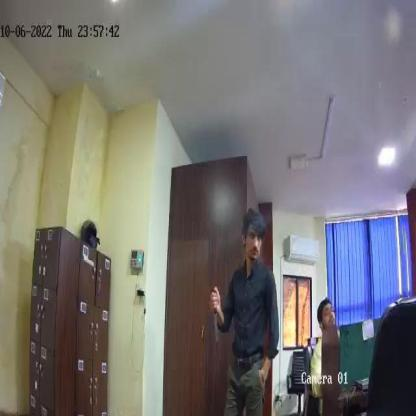Knife: (207, 289, 221, 345)
